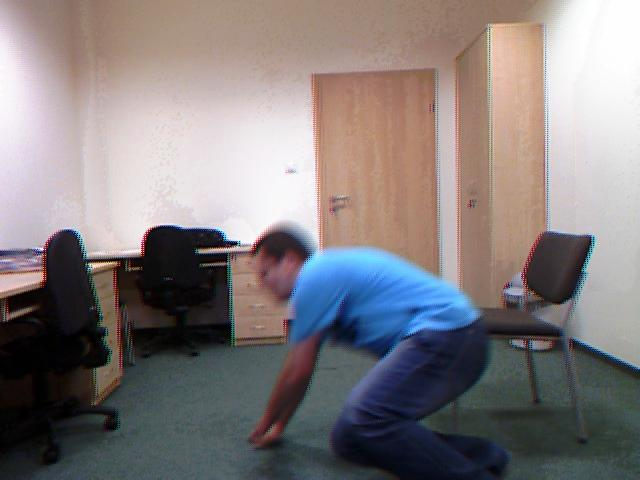fall: (242, 222, 522, 480)
